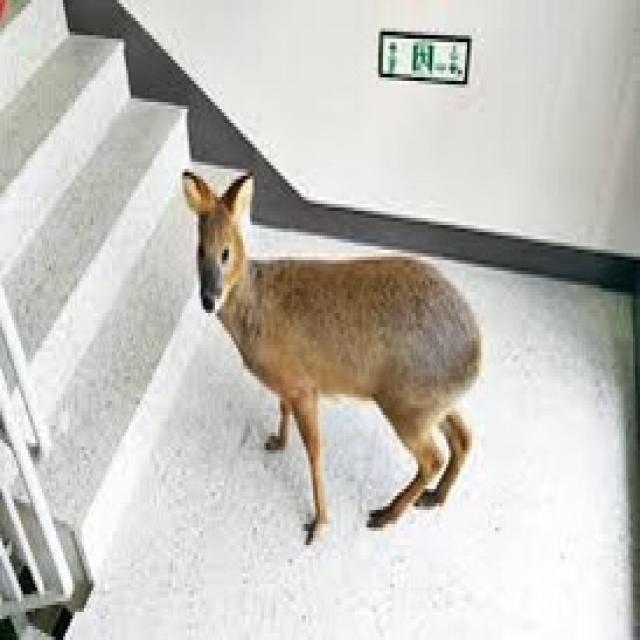elk: (167, 140, 498, 548)
